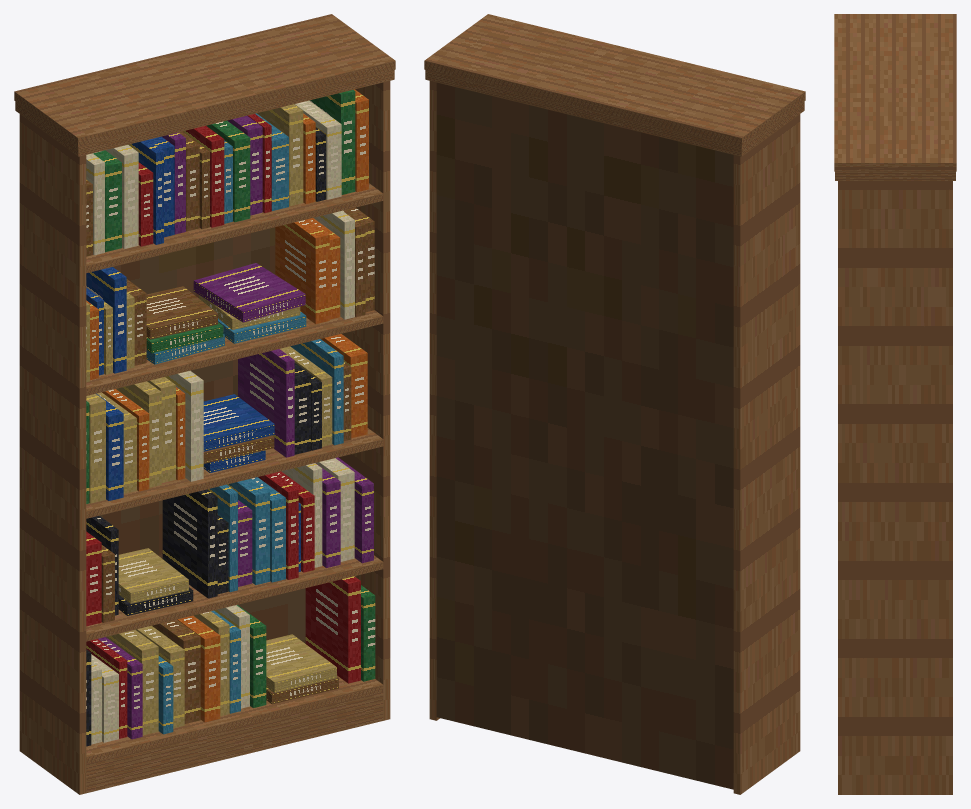
Rendered from Bookcase_Tall_Normal.fbx.
3 views of the same model, side by side, from view 1: azimuth 30°, elevation 25°; view 2: azimuth 150°, elevation 25°; view 3: azimuth 270°, elevation 25° (orthographic). The views are drawn at different scales.
Parts seen in each view (by area): view 1: Bookcase_Tall.001; view 2: Bookcase_Tall.001; view 3: Bookcase_Tall.001.
Boxes of the visible parts, <box> form: Bookcase_Tall.001: <box>14,14,395,794</box>; Bookcase_Tall.001: <box>424,14,805,794</box>; Bookcase_Tall.001: <box>834,14,956,794</box>.
Bounding box in the file's own units: 92 × 183 × 32.
